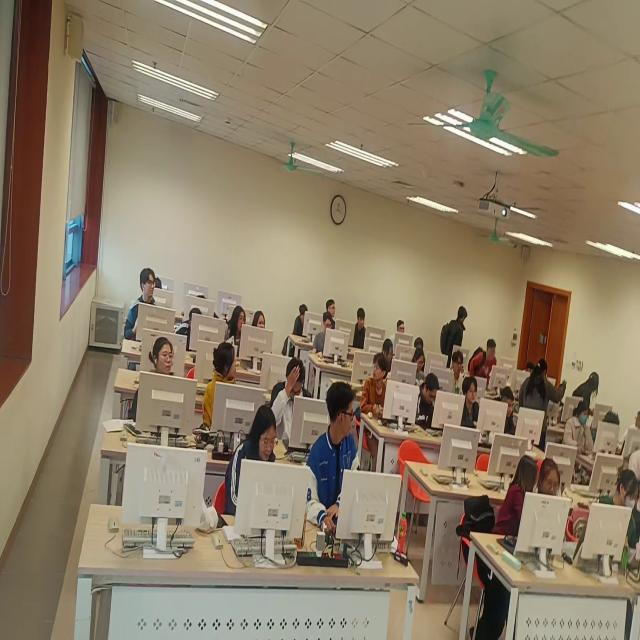raise_hand: (272, 355, 314, 445)
raise_head: (130, 336, 177, 419), (124, 262, 159, 347), (227, 299, 249, 361), (462, 373, 481, 428), (352, 305, 370, 351), (451, 347, 465, 396), (390, 318, 407, 348), (254, 308, 268, 333)
stand: (519, 355, 566, 440), (439, 297, 469, 359), (471, 333, 499, 385), (572, 367, 605, 407)
using_computer: (227, 403, 278, 525), (603, 466, 639, 568), (565, 400, 594, 459), (417, 371, 439, 428), (496, 383, 519, 436), (177, 307, 205, 349), (592, 407, 620, 446), (315, 312, 334, 359), (411, 348, 428, 385), (293, 302, 309, 341), (383, 338, 397, 377)
